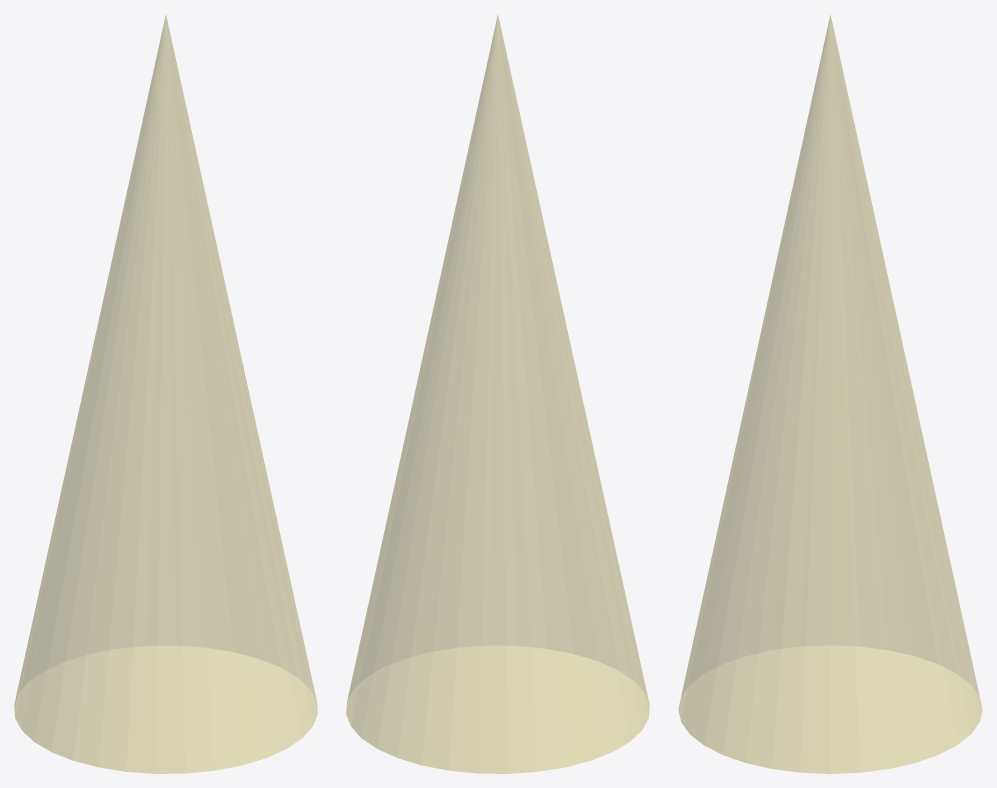
The picture shows the model from 3 angles, left to right: view 1: azimuth 30°, elevation 25°; view 2: azimuth 150°, elevation 25°; view 3: azimuth 270°, elevation 25°; orthographic projection.
Visible parts, largest first — view 1: Cone; view 2: Cone; view 3: Cone.
Part boxes in pixels (x1,y1,x2,y2): Cone: (14, 15, 317, 773); Cone: (346, 15, 649, 773); Cone: (678, 14, 982, 773).
Size of the model in its own units: 200 by 504 by 200.
